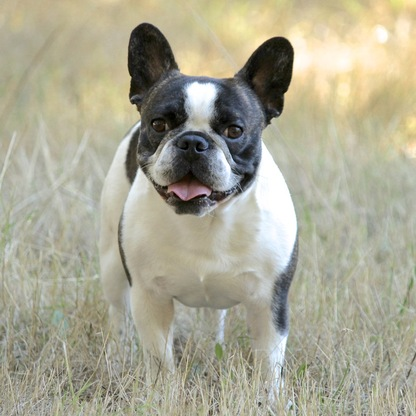bulldog: (96, 19, 302, 395)
